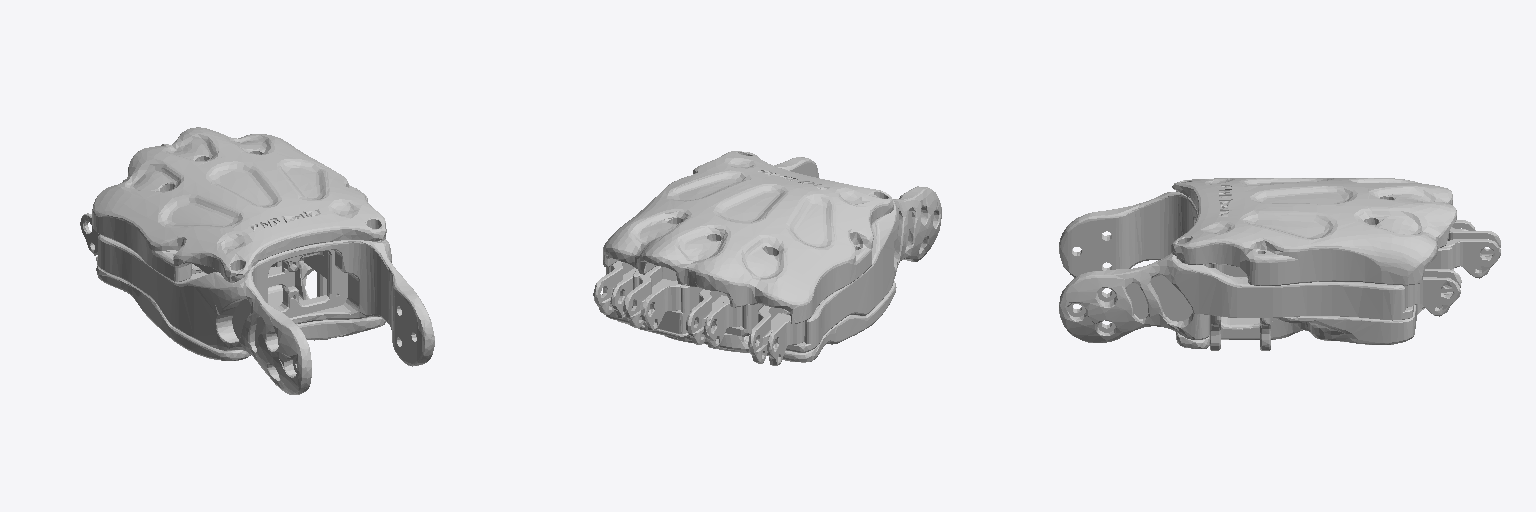
File: wristRollLeft.obj
3 renders of one model, left to right at view 1: azimuth 30°, elevation 25°; view 2: azimuth 150°, elevation 25°; view 3: azimuth 270°, elevation 25°, orthographic.
Visible parts, largest first — view 1: wristRollLeft; view 2: wristRollLeft; view 3: wristRollLeft.
Boxes of the visible parts, x1=… form: wristRollLeft: x1=80, y1=127, x2=434, y2=394; wristRollLeft: x1=593, y1=151, x2=941, y2=365; wristRollLeft: x1=1059, y1=178, x2=1500, y2=350.
Bounding box in the file's own units: 0.0771 × 0.0464 × 0.1449.